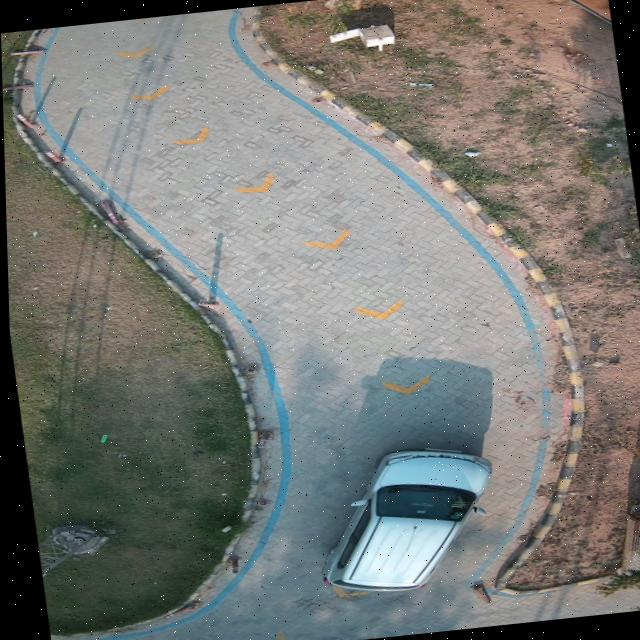car: (319, 448, 488, 590)
